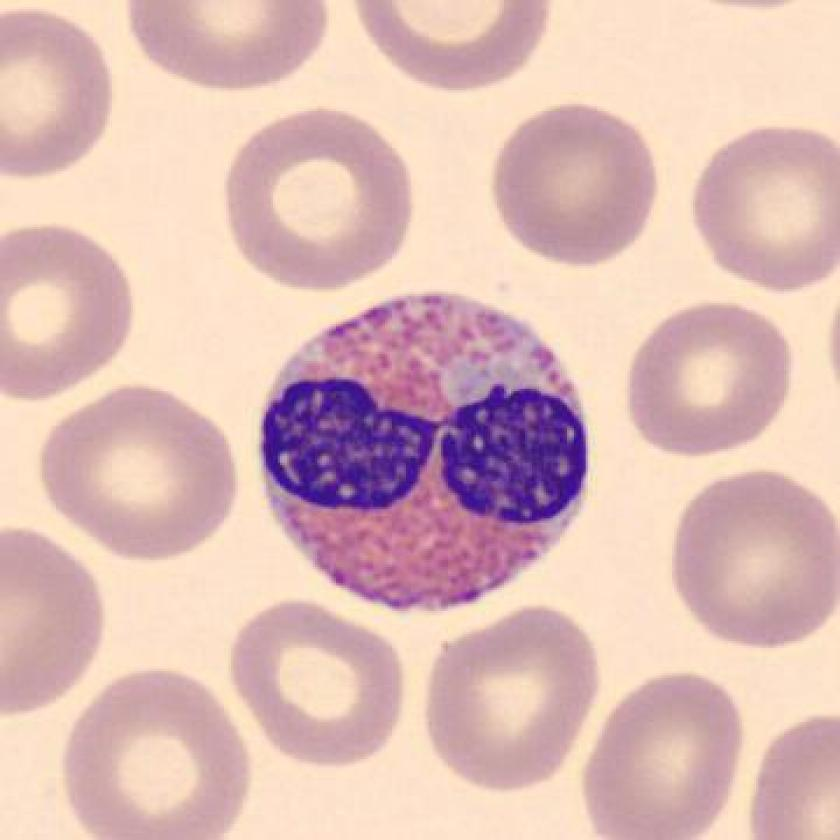eosinophil: (244, 283, 603, 626)
